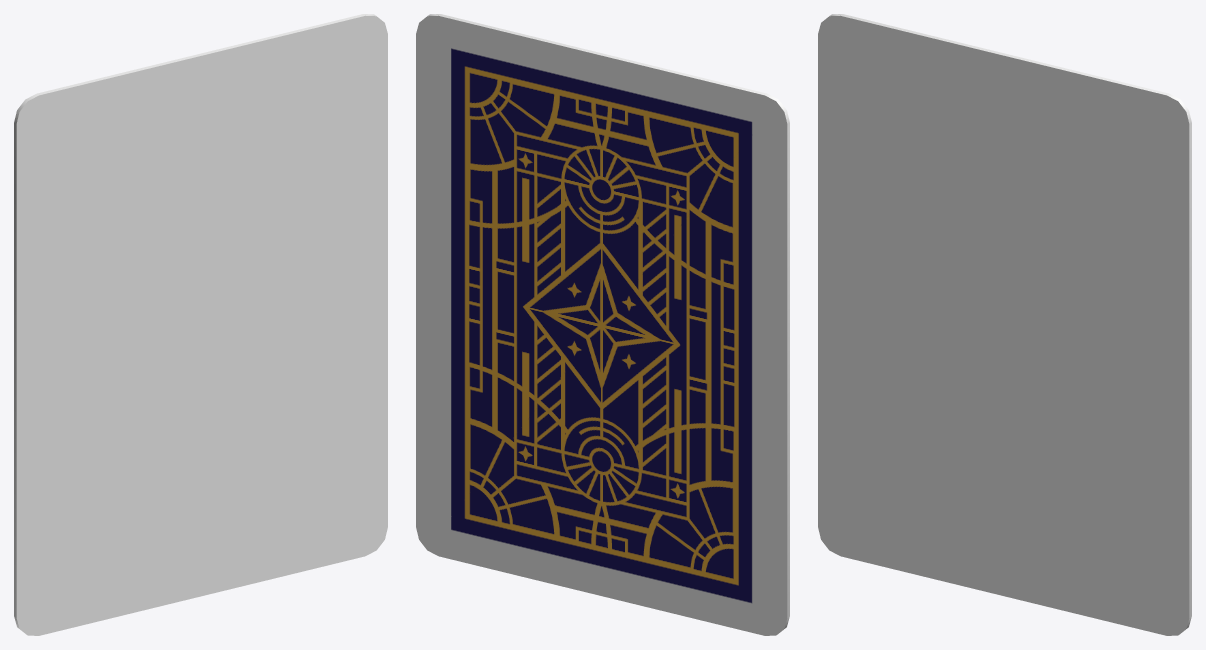
Rendered from cards.glb.
3 renders of one model, left to right at view 1: azimuth 30°, elevation 25°; view 2: azimuth 150°, elevation 25°; view 3: azimuth 330°, elevation 25°, orthographic.
Visible parts, largest first — view 1: card_base; view 2: card_base; view 3: card_base.
Part boxes in pixels (x1,y1,x2,y2): card_base: (14,14,387,635); card_base: (416,14,789,635); card_base: (818,14,1191,635).
Bounding box in the file's own units: 4.31 × 6 × 0.05.
Materials: 56 (55 with a texture image).
